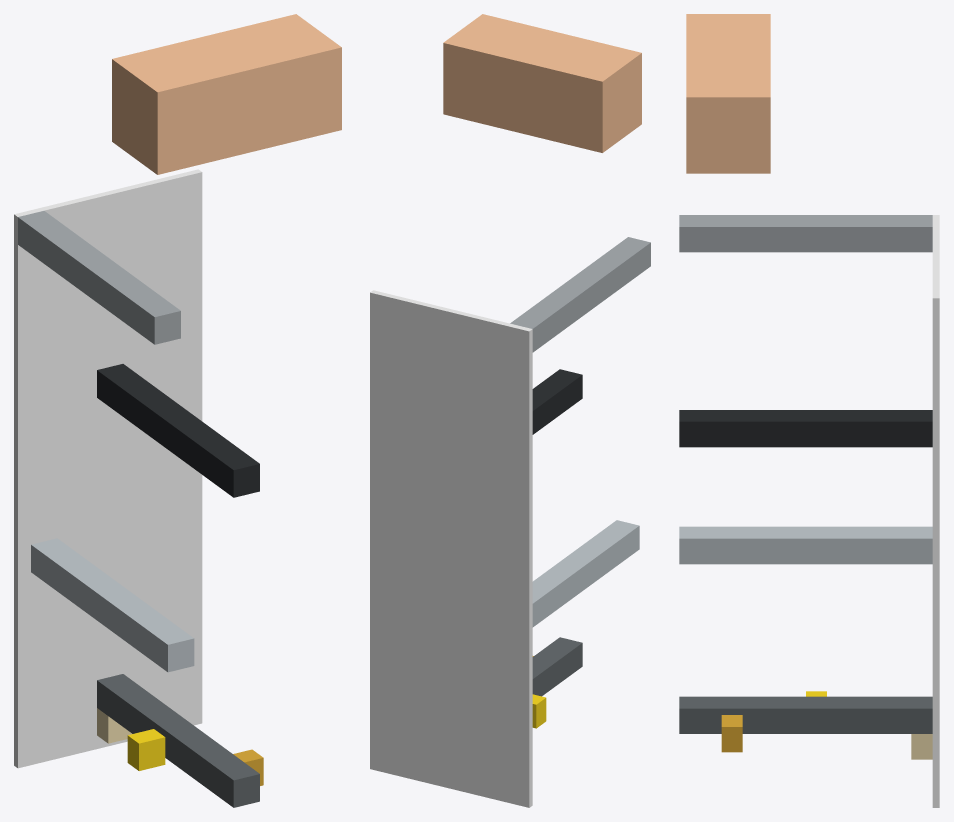
Rendered from tinker.obj.
3 views of the same model, side by side, from view 1: azimuth 30°, elevation 25°; view 2: azimuth 150°, elevation 25°; view 3: azimuth 270°, elevation 25° (orthographic). The views are drawn at different scales.
Parts seen in each view (by area): view 1: group_0_16448250, group_0_16500122, group_0_12568524, group_0_10988977, group_0_2829873, group_0_6383466, group_0_16768282, group_0_16311991; view 2: group_0_16448250, group_0_16500122, group_0_10988977, group_0_12568524, group_0_2829873, group_0_6383466; view 3: group_0_16500122, group_0_12568524, group_0_2829873, group_0_10988977, group_0_6383466, group_0_16448250, group_0_14789940, group_0_16311991.
Part boxes in pixels (left/top/right/bottom): group_0_16448250: left=14, top=169, right=202, bottom=768; group_0_16500122: left=112, top=14, right=341, bottom=174; group_0_12568524: left=31, top=538, right=194, bottom=672; group_0_10988977: left=18, top=211, right=180, bottom=344; group_0_2829873: left=97, top=364, right=259, bottom=497; group_0_6383466: left=97, top=674, right=259, bottom=807; group_0_16768282: left=127, top=729, right=165, bottom=770; group_0_16311991: left=97, top=708, right=131, bottom=743; group_0_16448250: left=370, top=290, right=532, bottom=807; group_0_16500122: left=443, top=14, right=641, bottom=152; group_0_10988977: left=510, top=237, right=650, bottom=352; group_0_12568524: left=532, top=520, right=639, bottom=627; group_0_2829873: left=532, top=369, right=582, bottom=434; group_0_6383466: left=532, top=637, right=582, bottom=696; group_0_16500122: left=686, top=14, right=770, bottom=173; group_0_12568524: left=679, top=526, right=932, bottom=564; group_0_2829873: left=679, top=410, right=932, bottom=447; group_0_10988977: left=679, top=215, right=932, bottom=252; group_0_6383466: left=679, top=696, right=932, bottom=733; group_0_16448250: left=932, top=215, right=939, bottom=807; group_0_14789940: left=721, top=715, right=742, bottom=752; group_0_16311991: left=911, top=734, right=932, bottom=759.
Bounding box in the file's own units: 7.25 × 28 × 9.25.
